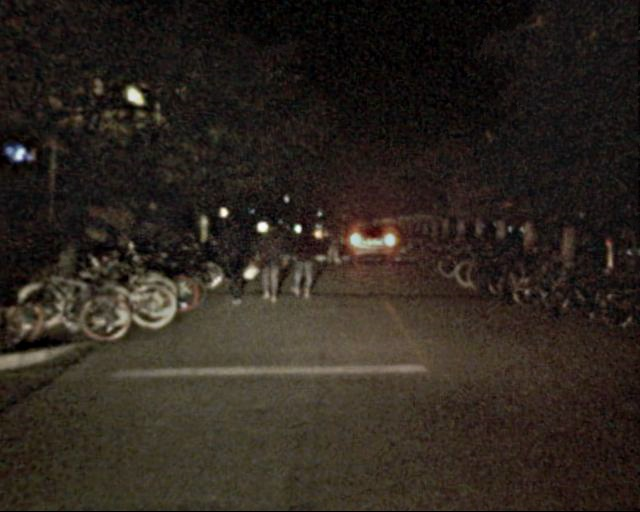person: (220, 215, 252, 308), (255, 221, 283, 305), (292, 214, 317, 300), (325, 220, 343, 264)
